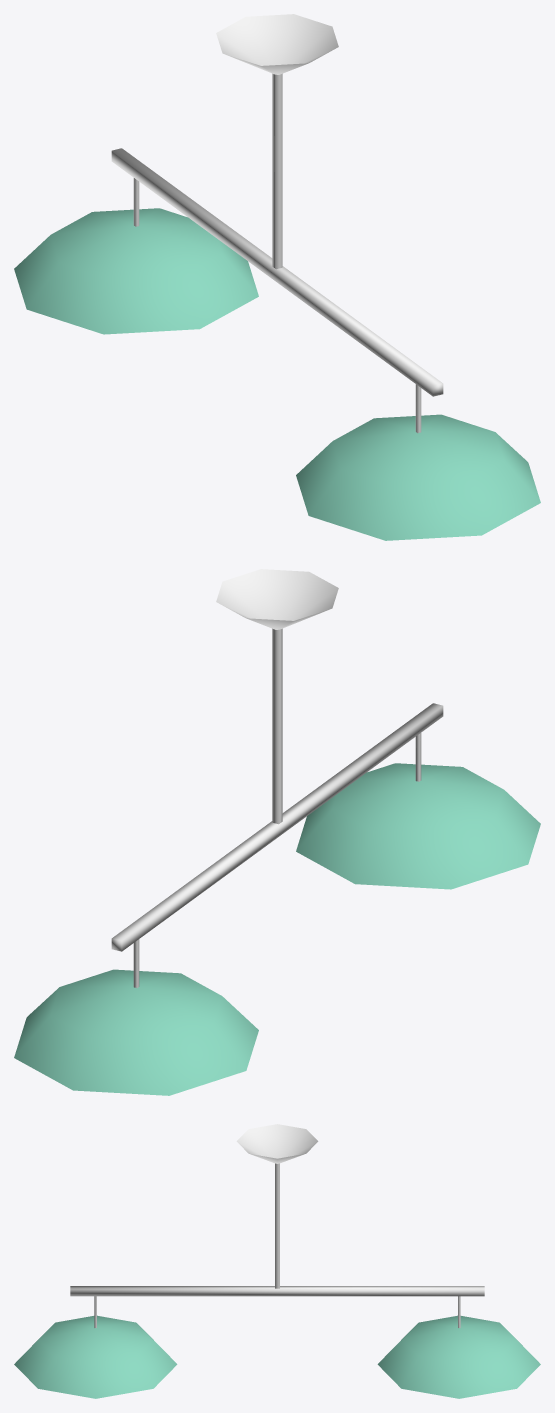
File: deco_lampe_plafond.dae
3 renders of one model, top to bottom at view 1: azimuth 30°, elevation 25°; view 2: azimuth 150°, elevation 25°; view 3: azimuth 270°, elevation 25°, orthographic. The views are drawn at different scales.
Parts seen in each view (by area): view 1: deco_lampe_plafond; view 2: deco_lampe_plafond; view 3: deco_lampe_plafond.
Part boxes in pixels (box(x1,y1,x2,y2)): deco_lampe_plafond: box(14, 14, 540, 540); deco_lampe_plafond: box(14, 569, 540, 1095); deco_lampe_plafond: box(14, 1124, 540, 1398).
Size of the model in its own units: 7.2 by 23.2 by 10.83.
